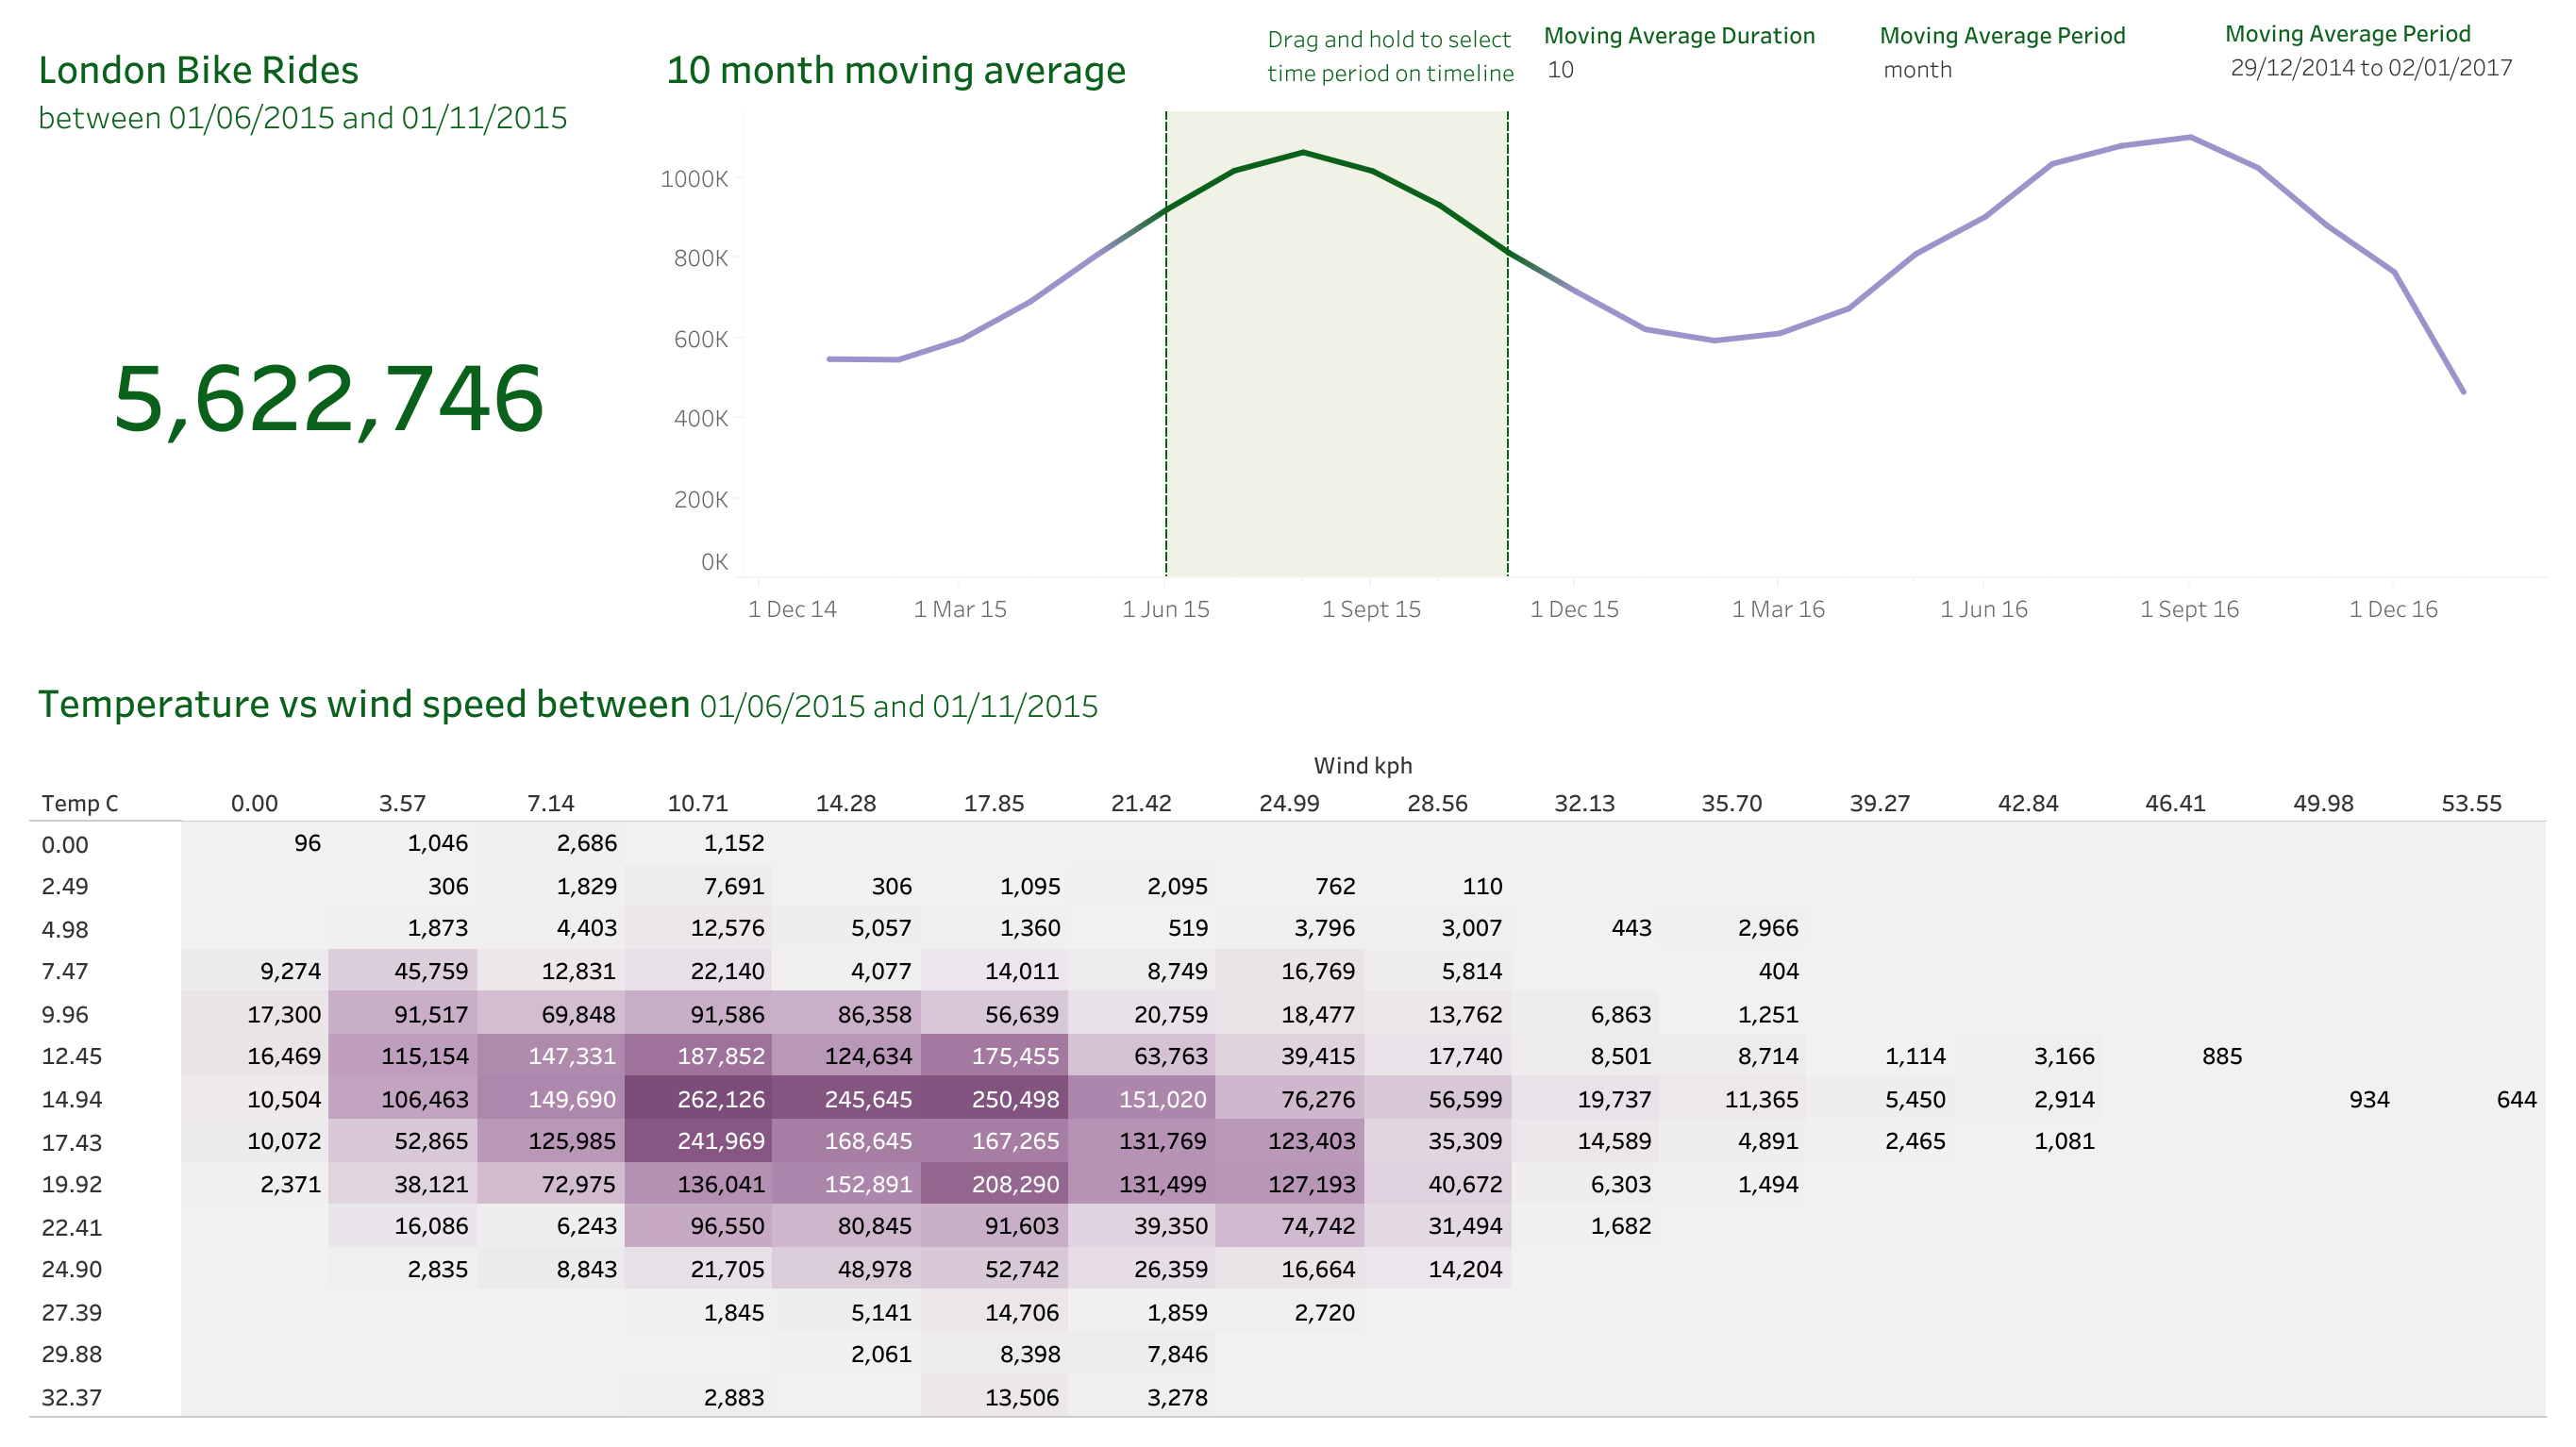

What the dashboard file says about the page in this screenshot:
{"tool":"tableau","page":{"name":"Dashboard 1","canvas":[1366,768],"ordinal":0},"visuals":[{"type":"text","box":[669,6,156,46]},{"type":"filter","title":"Moving Average","param":"[federated.0fi384v093dhta1chf5d71oylnzf].[none:Calculation_1055569286541320:qk]","box":[1179,7,168,75]},{"type":"worksheet","title":"Total Rides","mark":"Automatic","box":[8,8,333,336]},{"type":"worksheet","title":"Moving Average","mark":"Automatic","rows":["count"],"cols":["Calculation_1055569286541320"],"box":[341,8,1017,336]},{"type":"parameter","param":"[Parameters].[Parameter 2]","box":[818,8,160,46]},{"type":"parameter","param":"[Parameters].[Parameter 1]","box":[996,8,160,54]},{"type":"worksheet","title":"Heatmap","mark":"Square","rows":["temp real C (bin)"],"cols":["Wind Speed Kph (bin)"],"box":[8,344,1350,416]}]}

Visuals, with their boxes in screenshot pixels (x1, y1, x2, y2), scaled from the page's 1366x768 canvas onto the 2576x1447 screenshot:
text: [x1=1262, y1=11, x2=1556, y2=98]
"Moving Average" filter: [x1=2223, y1=13, x2=2540, y2=155]
"Total Rides" worksheet: [x1=15, y1=15, x2=644, y2=648]
"Moving Average" worksheet: [x1=644, y1=15, x2=2561, y2=648]
parameter: [x1=1543, y1=15, x2=1845, y2=102]
parameter: [x1=1879, y1=15, x2=2180, y2=117]
"Heatmap" worksheet (Square marks): [x1=15, y1=648, x2=2561, y2=1432]
